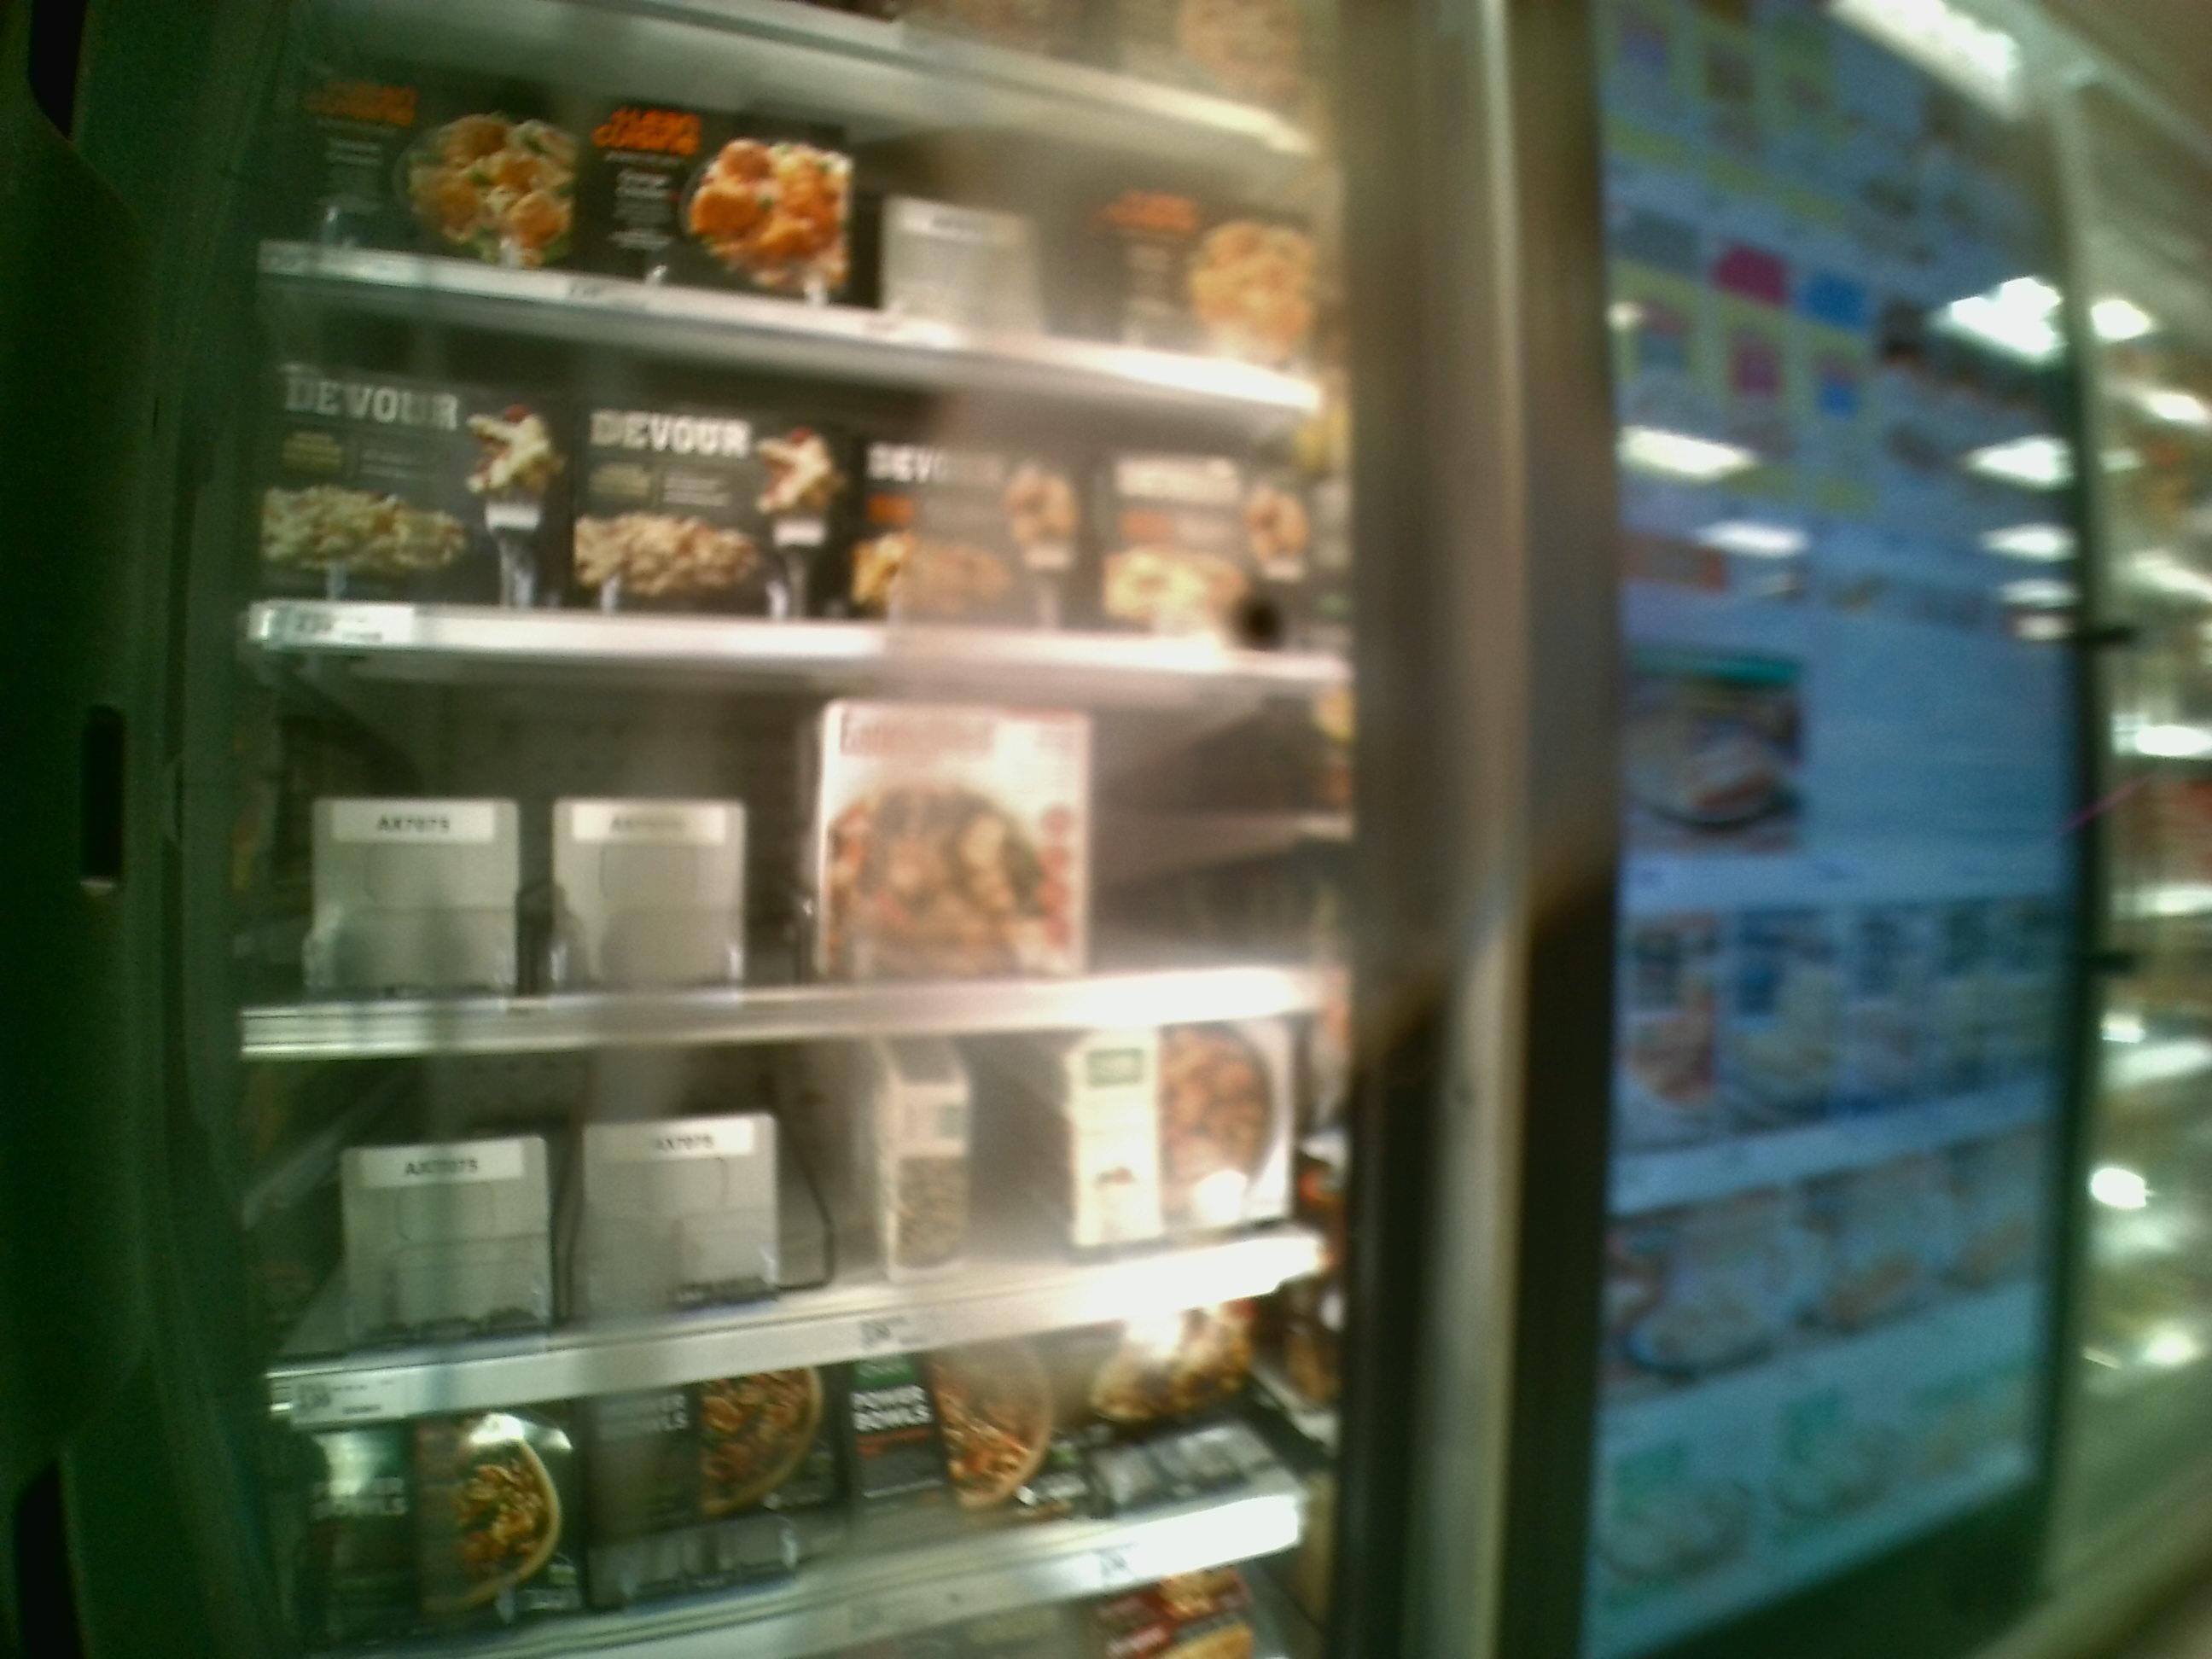Shelf: (240, 647, 1374, 1054)
